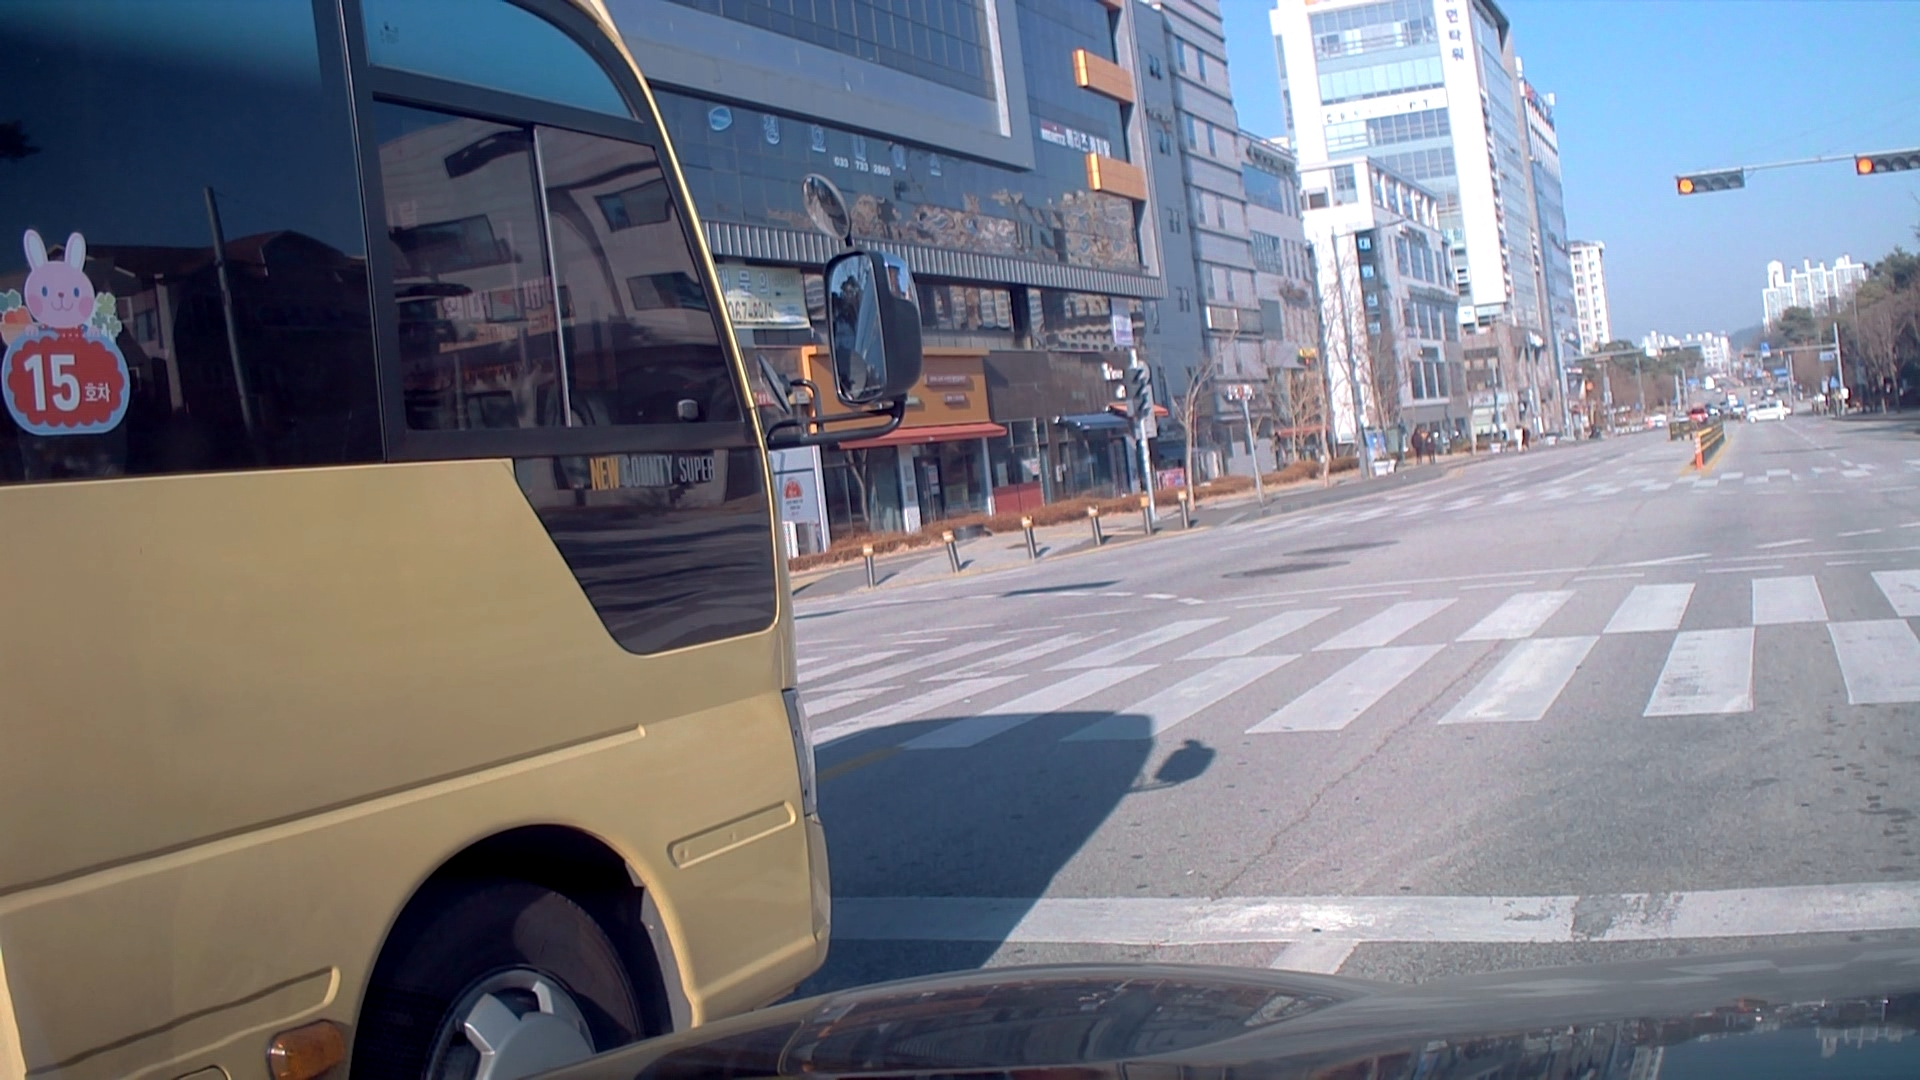trafficLight: (1675, 146, 1920, 194)
